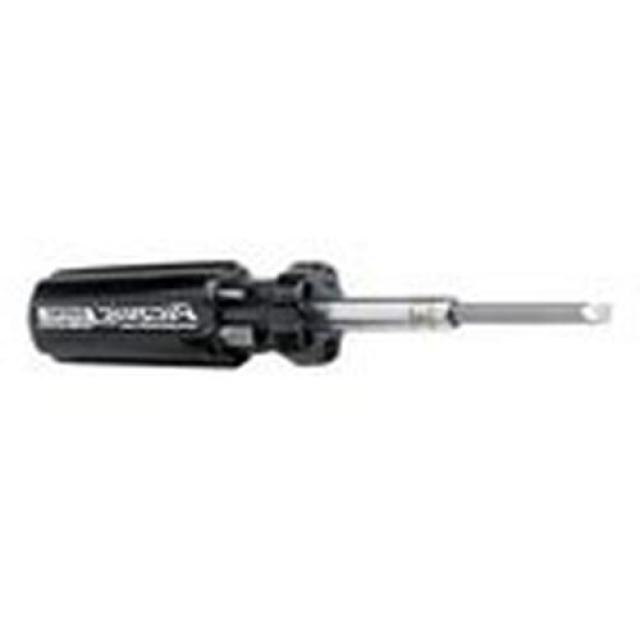screw driver: (1, 233, 630, 383)
